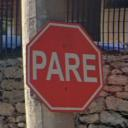Pare: (23, 19, 108, 113)
